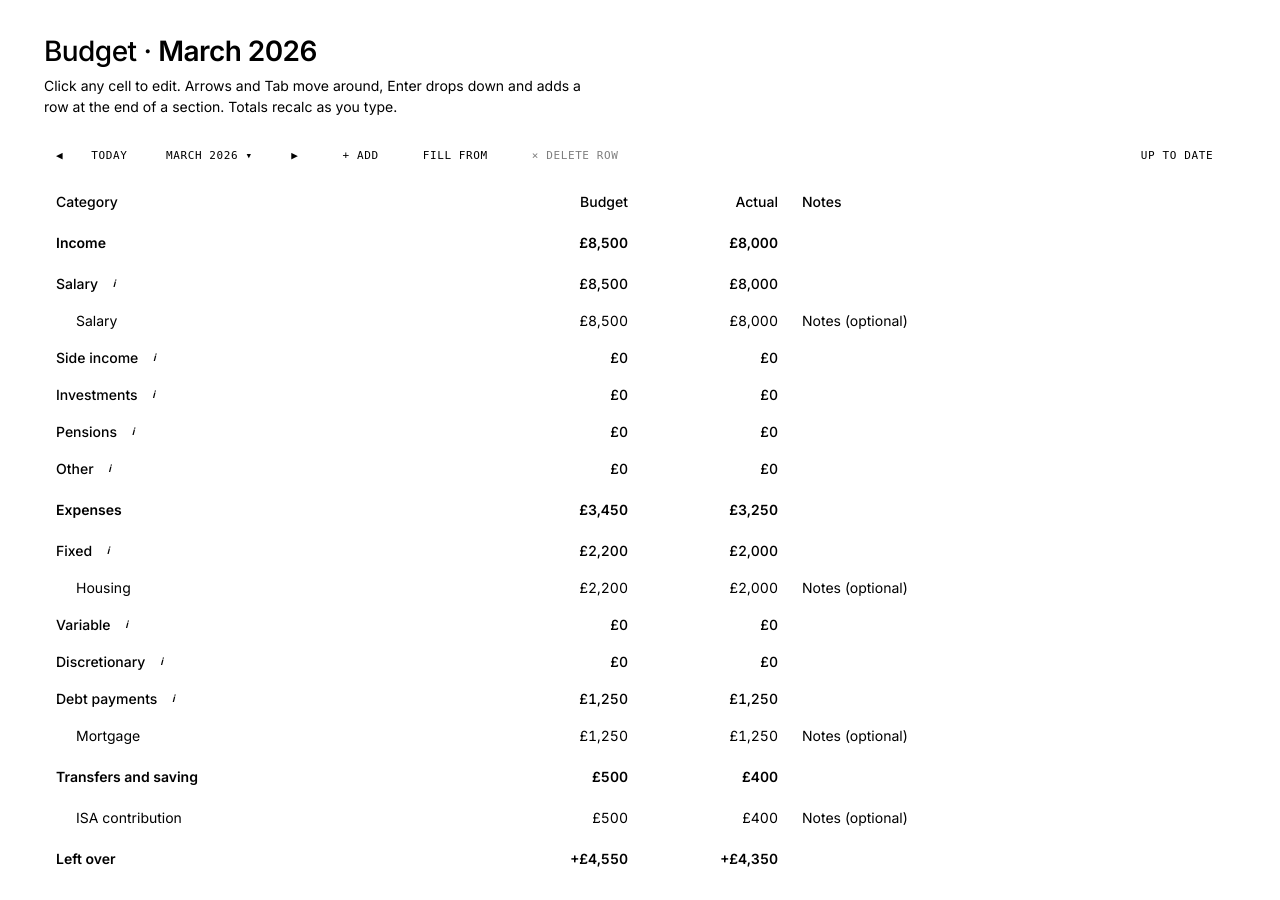
Test: BudgetSheet — the Add drawer's account picker › with nothing eligible, it says where accounts get a kind
Click the button "+ Add".
click(361, 156)  # box top-left (331, 141), bottom-right (391, 171)
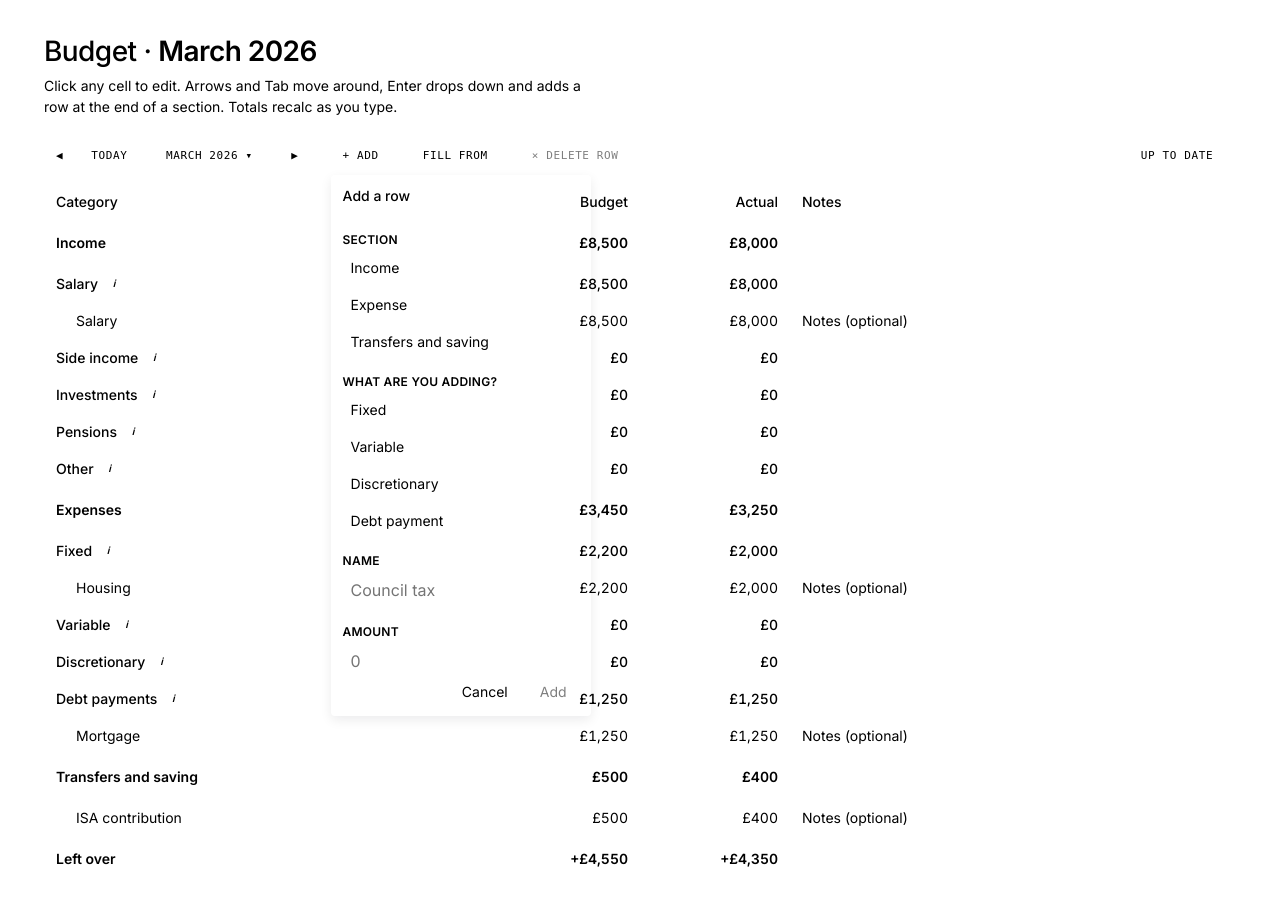
Click the button "Transfers and saving".
click(461, 341)  # box top-left (343, 325), bottom-right (579, 358)
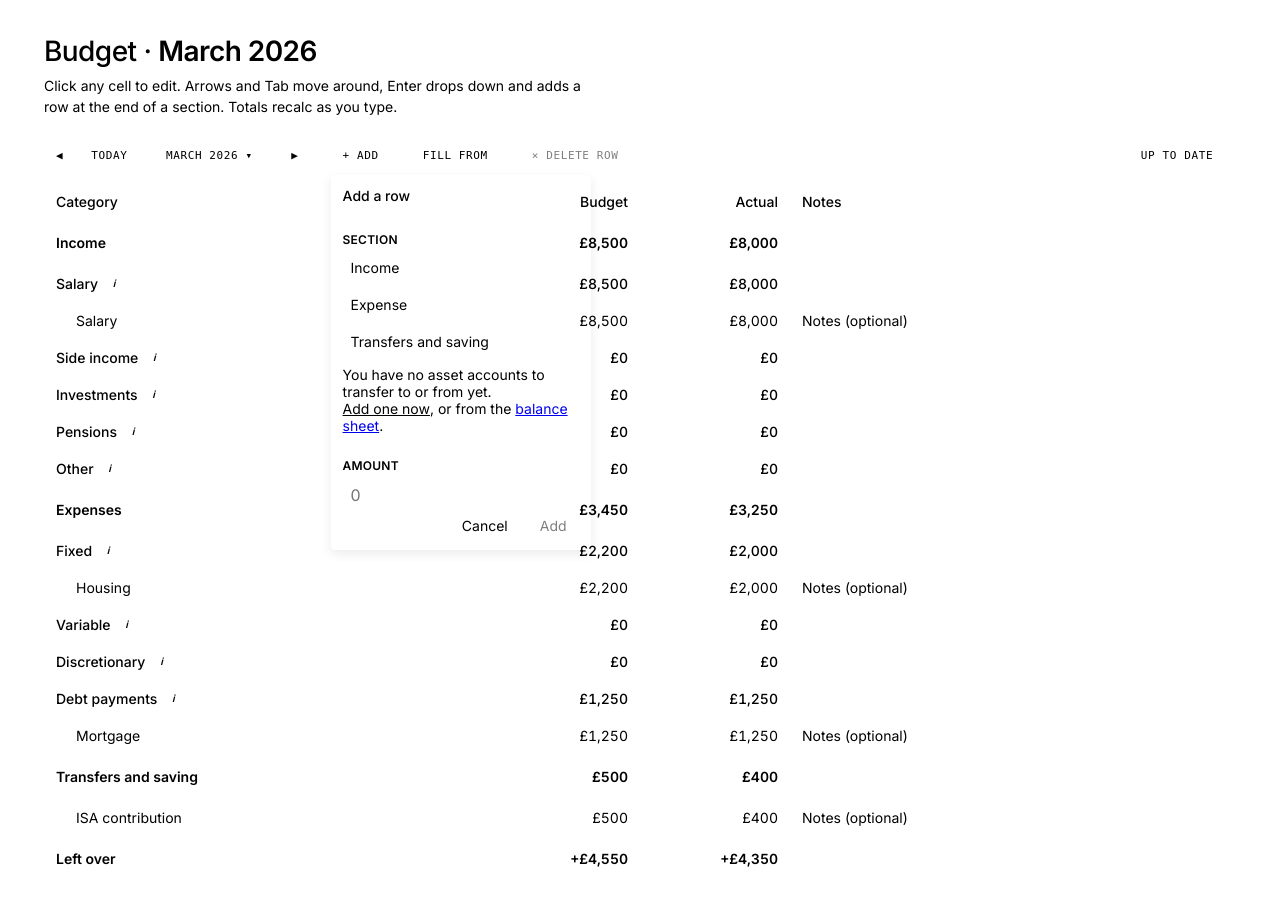
Check: the text "no asset accounts to transfer to or from yet" is shown, box top-left (343, 358), bottom-right (579, 442)
